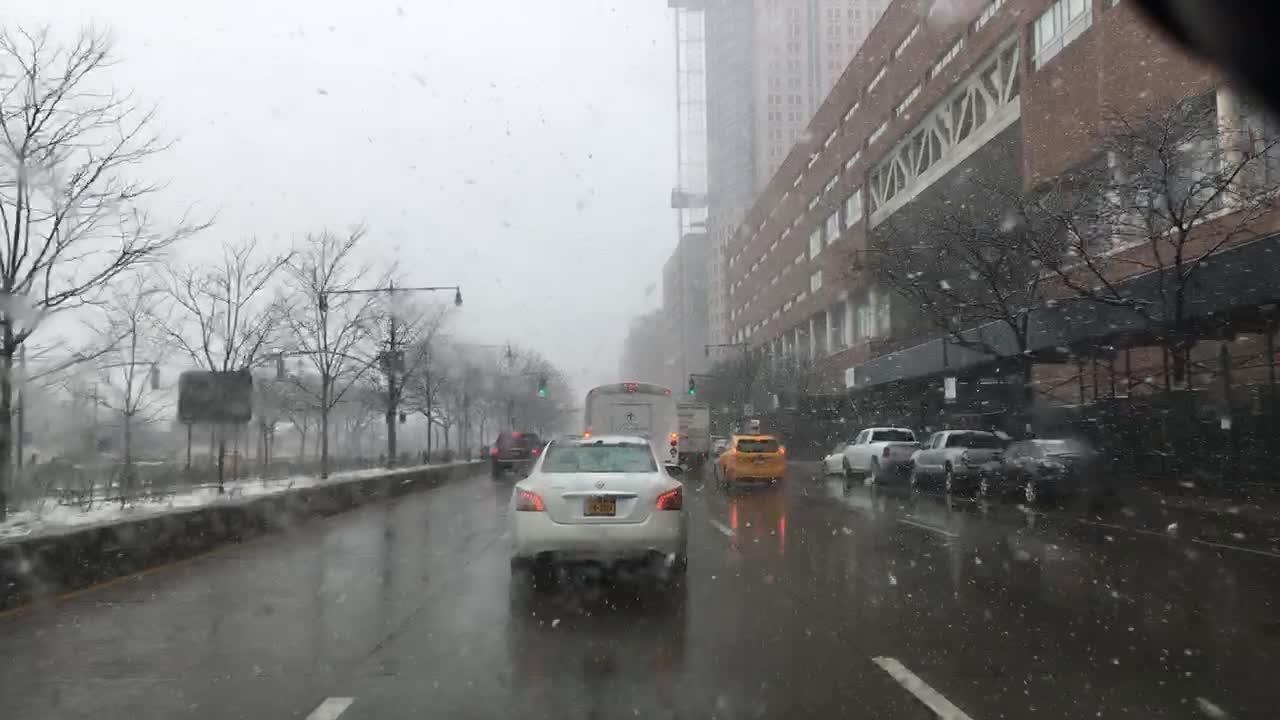Nissan: (592, 479, 607, 490)
